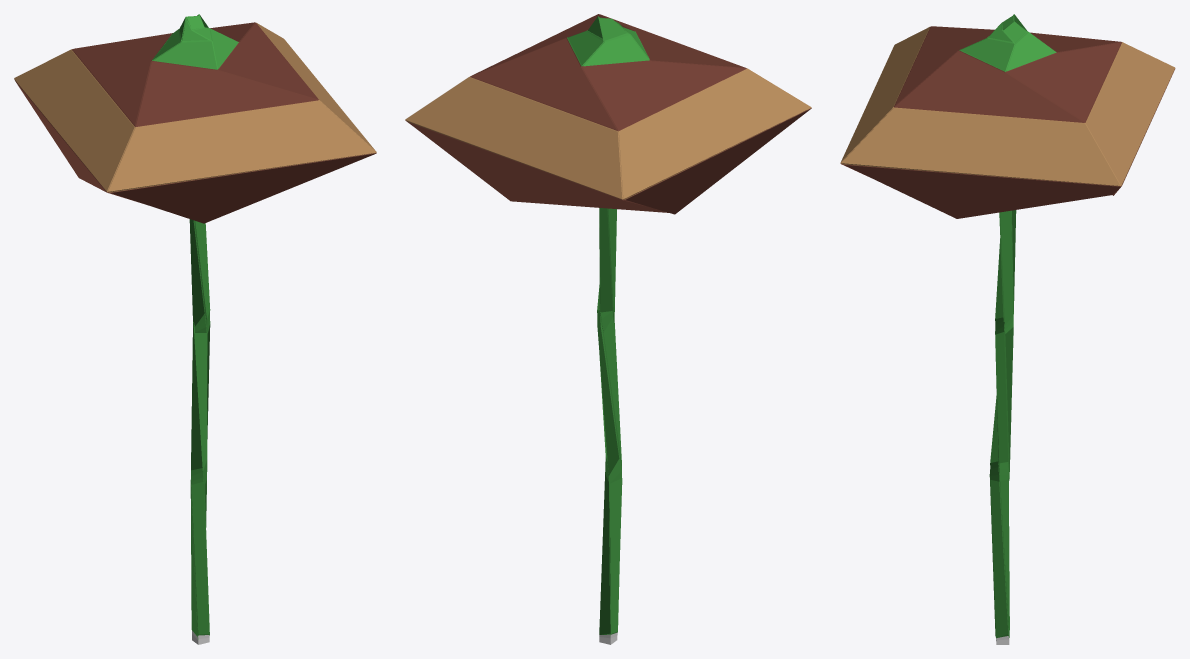
File: _plant.glb
3 views of the same model, side by side, from view 1: azimuth 30°, elevation 25°; view 2: azimuth 150°, elevation 25°; view 3: azimuth 270°, elevation 25° (orthographic).
Visible parts, largest first — view 1: Cube; view 2: Cube; view 3: Cube.
Part boxes in pixels (left/top/right/bottom): Cube: left=14, top=14, right=376, bottom=644; Cube: left=405, top=14, right=811, bottom=644; Cube: left=840, top=14, right=1175, bottom=644.
Bounding box in the file's own units: 2.14 × 4.39 × 2.14.
